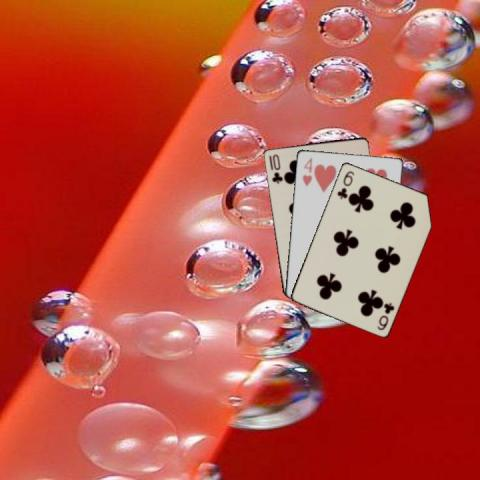10c: (266, 151, 283, 185)
4h: (300, 155, 314, 188)
6c: (334, 168, 356, 200), (374, 300, 395, 332)
